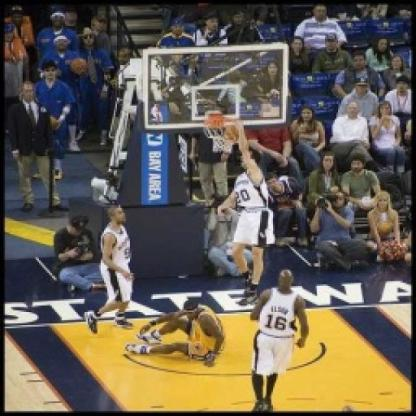basketball: (220, 122, 245, 145)
